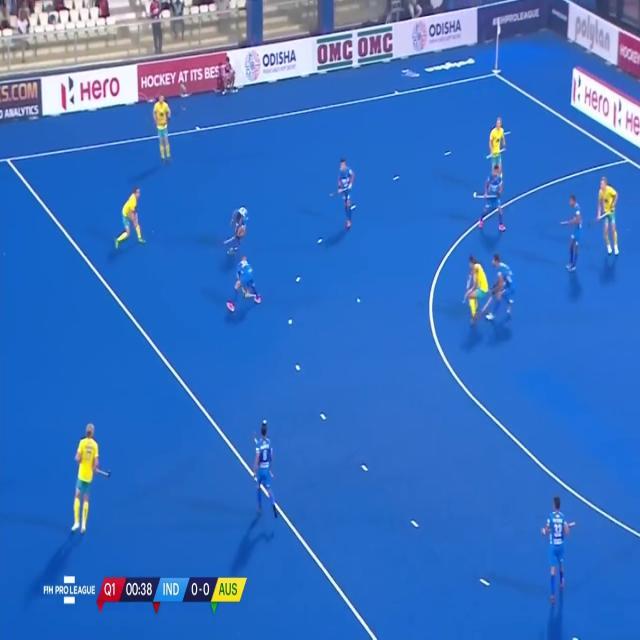ball: (356, 295, 362, 305)
